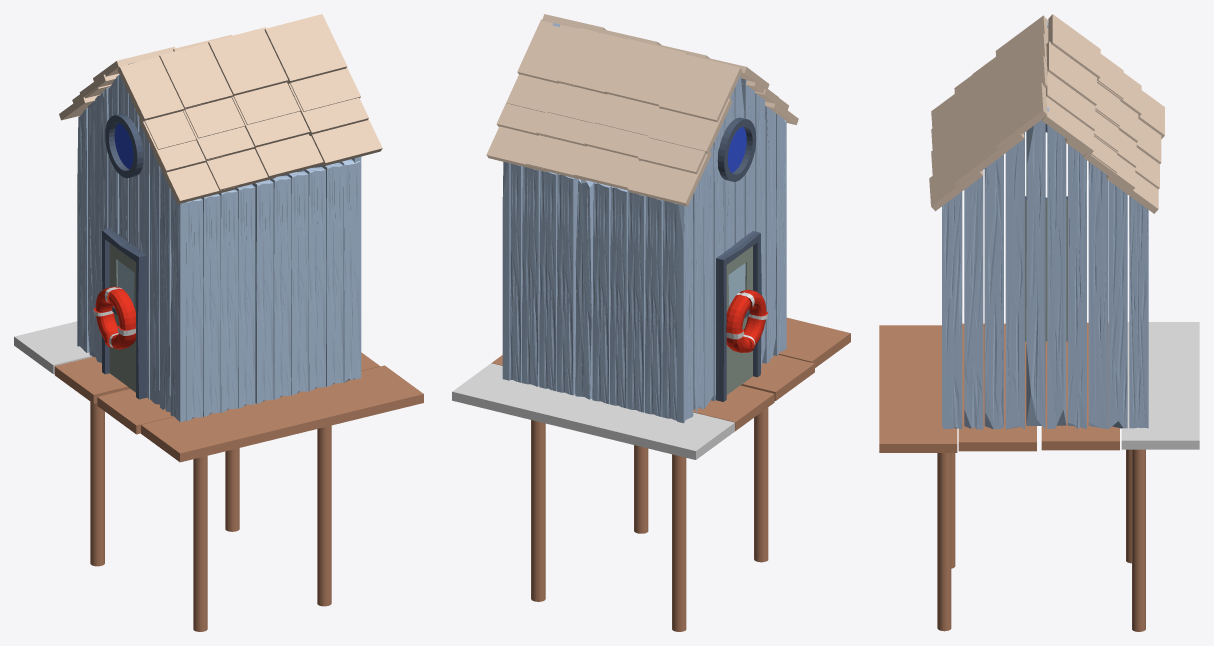
The model's file is house 1.fbx.
The picture shows the model from 3 angles, left to right: view 1: azimuth 30°, elevation 25°; view 2: azimuth 150°, elevation 25°; view 3: azimuth 270°, elevation 25°; orthographic projection.
Parts seen in each view (by area): view 1: Cube.004, Cube.185, Cube.199, Cube.198, Cube.197, Cube.196, Cube.195, Cube.202, Cube.203, Cube.201, Cube.194, Cube.200 (+36 smaller); view 2: Cube.214, Cube.185, Cube.205, Cube.210, Cube.209, Cube.211, Cube.204, Cube.212, Cube.206, Cube.208, Cube, Cube.172 (+36 smaller); view 3: Cube.004, Cube.214, Cube.177, Cube.178, Cube.181, Cube.182, Cube.179, Cube.180, Cube.183, Cube.176, Cube.184, Cube.175 (+35 smaller).
Part boxes in pixels (left/top/right/bottom): Cube.004: left=141, top=365, right=423, bottom=462; Cube.185: left=102, top=228, right=146, bottom=399; Cube.199: left=252, top=179, right=273, bottom=403; Cube.198: left=270, top=175, right=291, bottom=399; Cube.197: left=304, top=167, right=325, bottom=391; Cube.196: left=287, top=171, right=308, bottom=395; Cube.195: left=322, top=162, right=343, bottom=386; Cube.202: left=235, top=184, right=255, bottom=408; Cube.203: left=218, top=189, right=237, bottom=412; Cube.201: left=201, top=194, right=220, bottom=416; Cube.194: left=339, top=159, right=360, bottom=382; Cube.200: left=185, top=198, right=202, bottom=421; Cube.214: left=452, top=363, right=734, bottom=459; Cube.185: left=715, top=231, right=761, bottom=401; Cube.205: left=556, top=174, right=577, bottom=395; Cube.210: left=627, top=191, right=645, bottom=412; Cube.209: left=592, top=182, right=610, bottom=404; Cube.211: left=610, top=186, right=628, bottom=408; Cube.204: left=539, top=171, right=557, bottom=391; Cube.212: left=645, top=196, right=663, bottom=416; Cube.206: left=521, top=166, right=540, bottom=386; Cube.208: left=575, top=179, right=593, bottom=399; Cube: left=658, top=53, right=742, bottom=122; Cube.172: left=677, top=196, right=693, bottom=423; Cube.004: left=879, top=325, right=957, bottom=452; Cube.214: left=1121, top=322, right=1199, bottom=449; Cube.177: left=1026, top=120, right=1045, bottom=428; Cube.178: left=1047, top=107, right=1066, bottom=428; Cube.181: left=1005, top=132, right=1024, bottom=429; Cube.182: left=984, top=154, right=1003, bottom=429; Cube.179: left=1067, top=144, right=1086, bottom=428; Cube.180: left=1088, top=162, right=1107, bottom=428; Cube.183: left=964, top=170, right=983, bottom=429; Cube.176: left=1108, top=180, right=1127, bottom=428; Cube.184: left=943, top=191, right=962, bottom=429; Cube.175: left=1129, top=196, right=1148, bottom=428.
Bounding box in the file's own units: 622 × 1291 × 693.
